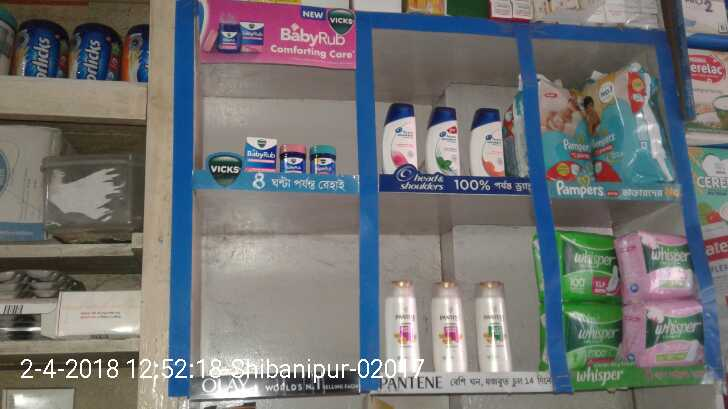vicks: (245, 137, 278, 171), (279, 144, 308, 175), (311, 144, 337, 177)
